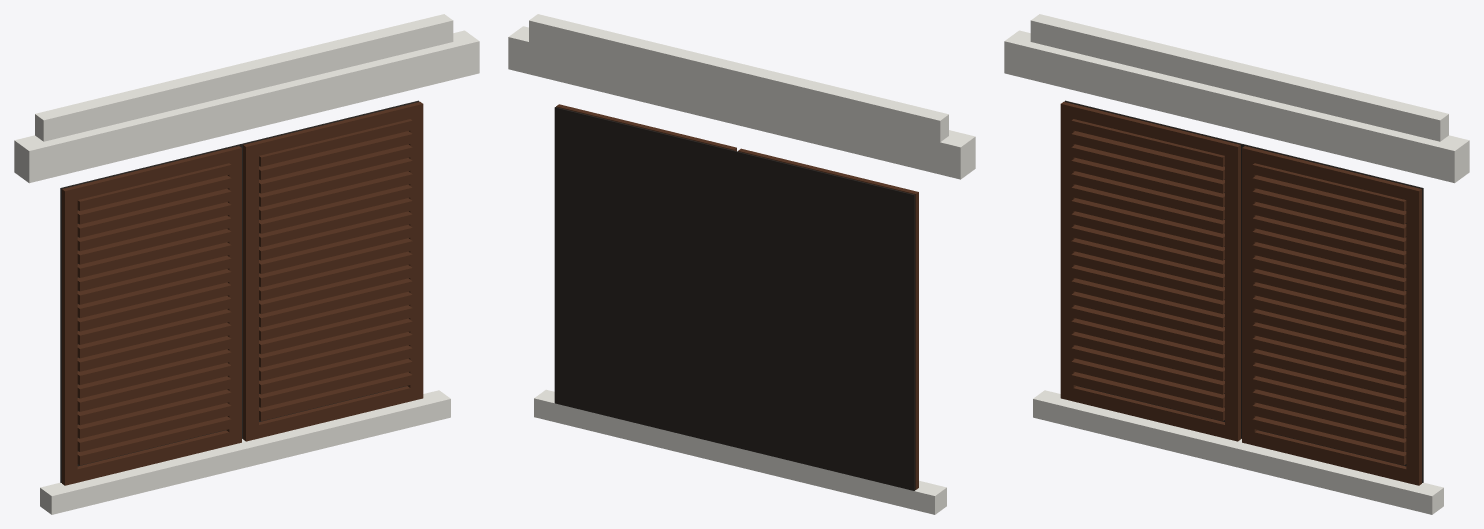
The model's file is shutter-window.glb.
3 renders of one model, left to right at view 1: azimuth 30°, elevation 25°; view 2: azimuth 150°, elevation 25°; view 3: azimuth 330°, elevation 25°, orthographic.
Visible parts, largest first — view 1: shutter-window-shutter, shutter-window-plaster, shutter-window-reveal; view 2: shutter-window-reveal, shutter-window-plaster, shutter-window-shutter; view 3: shutter-window-shutter, shutter-window-plaster, shutter-window-reveal.
Boxes of the visible parts, bbox=[...] form: shutter-window-shutter: bbox=[62, 102, 423, 485]; shutter-window-plaster: bbox=[14, 14, 479, 514]; shutter-window-reveal: bbox=[60, 100, 419, 482]; shutter-window-reveal: bbox=[554, 107, 915, 490]; shutter-window-plaster: bbox=[508, 14, 975, 514]; shutter-window-shutter: bbox=[556, 104, 918, 489]; shutter-window-shutter: bbox=[1060, 102, 1421, 485]; shutter-window-plaster: bbox=[1004, 14, 1469, 514]; shutter-window-reveal: bbox=[1064, 100, 1423, 482].
Size of the model in its own units: 1.76 by 1.47 by 0.1.
